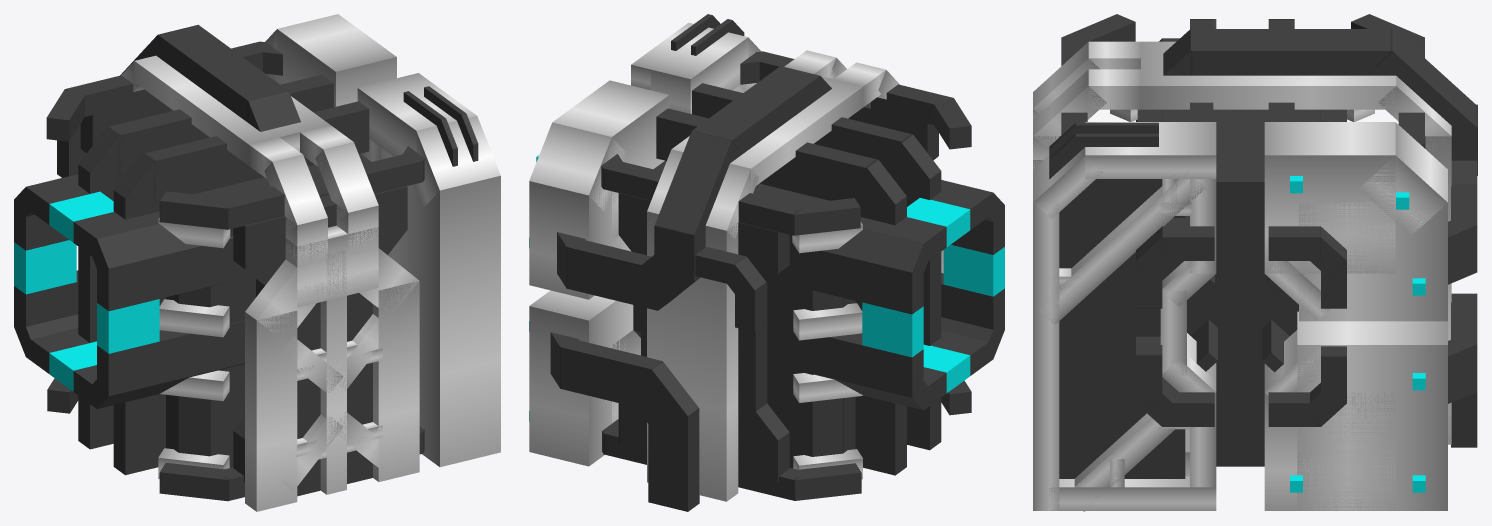
Rendered from AdvanceNetworkLink.obj.
The picture shows the model from 3 angles, left to right: view 1: azimuth 30°, elevation 25°; view 2: azimuth 150°, elevation 25°; view 3: azimuth 270°, elevation 25°; orthographic projection. The views are drawn at different scales.
Visible parts, largest first — view 1: housing, frame, lighting; view 2: frame, housing, lighting; view 3: housing, frame, lighting.
Boxes of the visible parts, x1=… form: housing: x1=121, y1=14, x2=500, y2=511; frame: x1=14, y1=24, x2=478, y2=501; lighting: x1=14, y1=191, x2=159, y2=391; frame: x1=550, y1=14, x2=1004, y2=511; housing: x1=529, y1=22, x2=943, y2=501; lighting: x1=529, y1=155, x2=1004, y2=421; housing: x1=1033, y1=41, x2=1451, y2=511; frame: x1=1049, y1=14, x2=1477, y2=478; lighting: x1=1290, y1=176, x2=1425, y2=492.
Bounding box in the file's own units: 1.12 × 1.04 × 1.06.
1 material, 1 textured.
